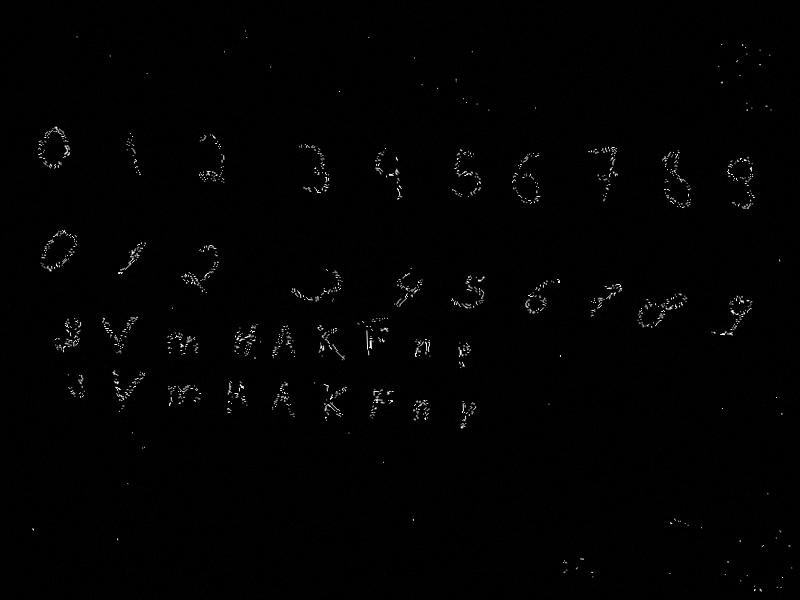0: (37, 224, 83, 275), (34, 123, 73, 171)
1: (109, 235, 151, 278), (119, 129, 143, 178)
2: (177, 243, 223, 297), (193, 130, 231, 188)
3: (288, 263, 346, 306), (294, 140, 333, 196)
4: (370, 146, 406, 204), (386, 266, 428, 309)
5: (446, 147, 485, 201), (447, 272, 489, 310)
6: (507, 148, 546, 208), (521, 275, 564, 319)
7: (581, 143, 624, 204), (584, 279, 625, 321)
8: (632, 280, 690, 334), (656, 146, 696, 213)
9: (705, 292, 757, 344), (722, 152, 759, 214)
A: (270, 379, 296, 420), (271, 322, 297, 361)
F: (367, 386, 397, 424), (363, 323, 391, 361)
H: (232, 320, 261, 360), (225, 377, 248, 415)
V: (108, 367, 150, 417), (98, 313, 142, 357)
k: (320, 380, 351, 424), (313, 323, 347, 363)
m: (162, 331, 202, 361), (165, 382, 204, 411)
n: (409, 397, 431, 424), (412, 335, 433, 363)
p: (457, 398, 478, 433), (455, 340, 474, 372)
u: (46, 314, 87, 360), (63, 369, 90, 402)
